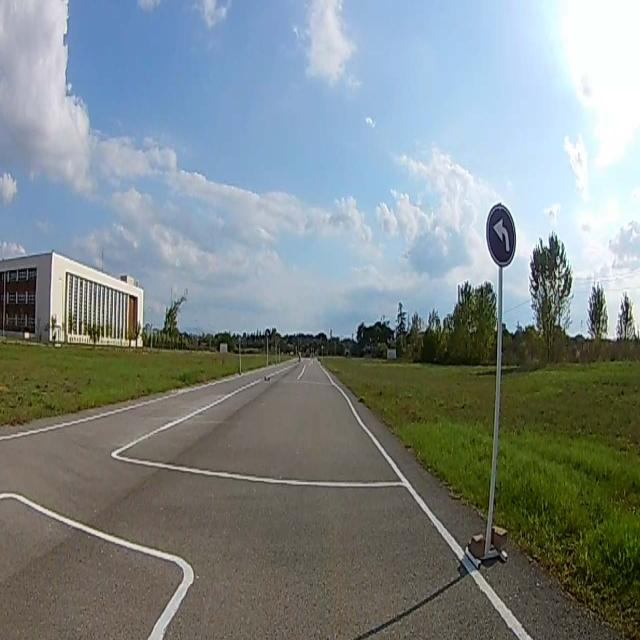sol: (486, 202, 515, 266)
